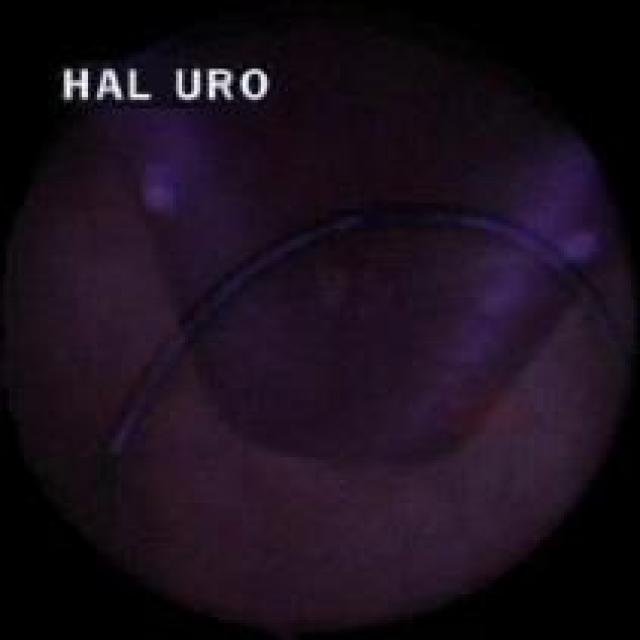color misalignment: (56, 59, 291, 113)
contrast: (45, 53, 626, 613)
instrument: (102, 35, 615, 464), (82, 210, 629, 541)
